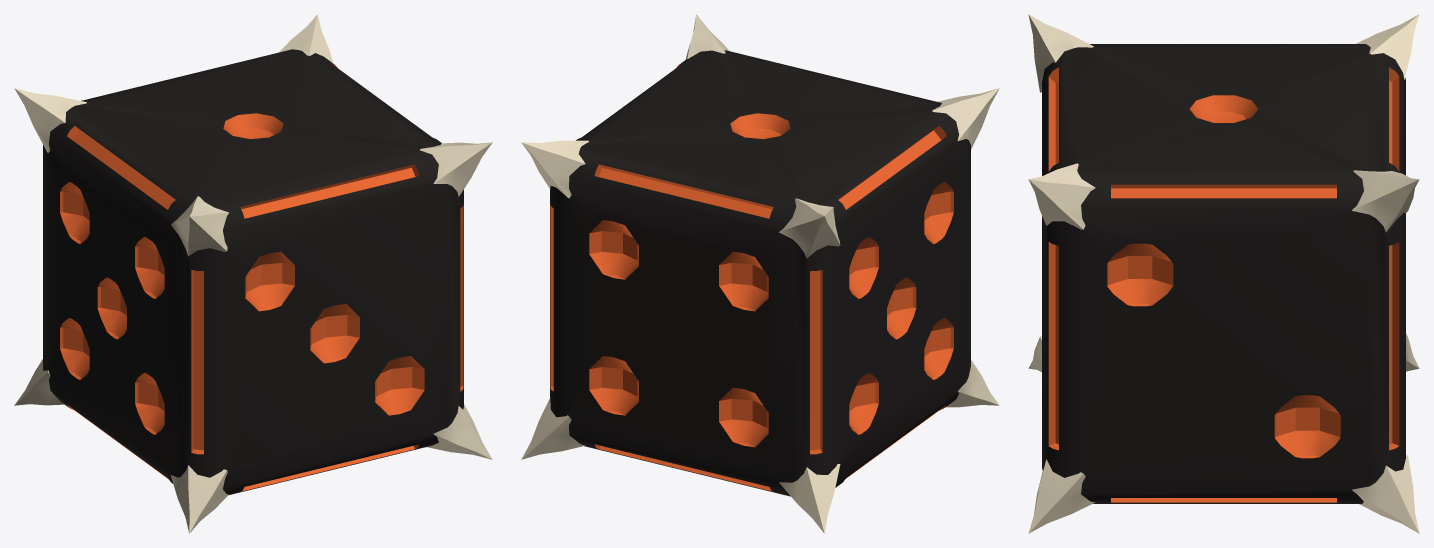
File: hellfire_d6.glb
The picture shows the model from 3 angles, left to right: view 1: azimuth 30°, elevation 25°; view 2: azimuth 150°, elevation 25°; view 3: azimuth 270°, elevation 25°; orthographic projection. The views are drawn at different scales.
Visible parts, largest first — view 1: HellfireD6; view 2: HellfireD6; view 3: HellfireD6.
Part boxes in pixels (<box>): HellfireD6: <box>14,14,492,533</box>; HellfireD6: <box>521,14,999,533</box>; HellfireD6: <box>1028,14,1419,533</box>.
Bounding box in the file's own units: 0.086 × 0.086 × 0.086.
